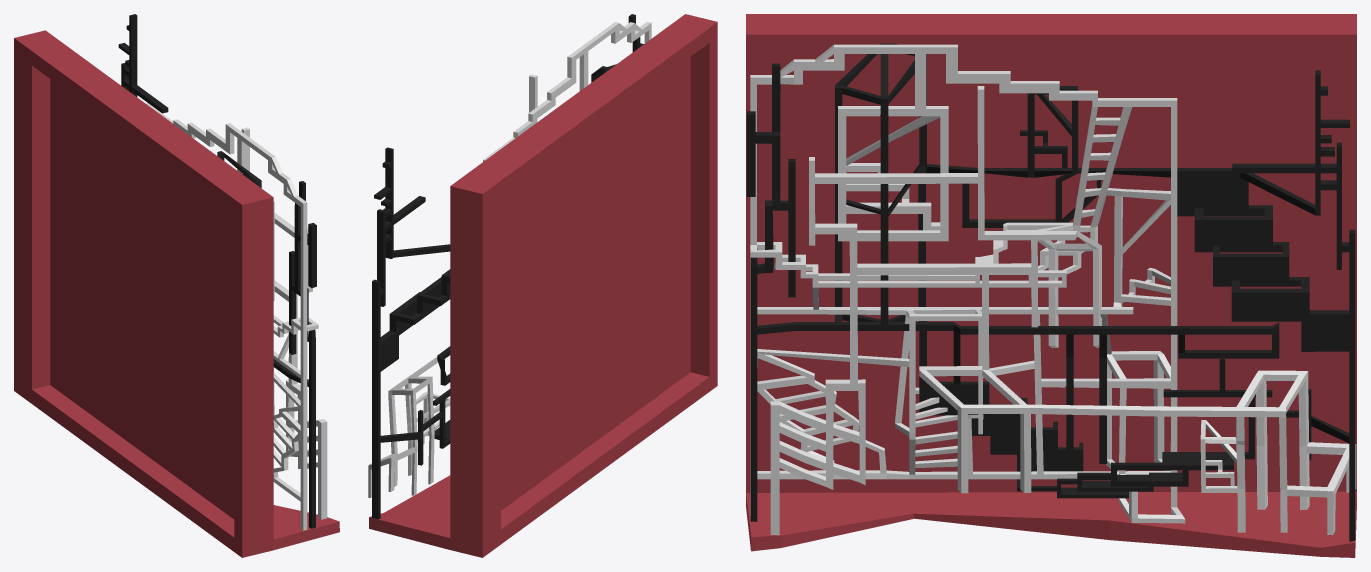
File: Stairs.glb
The picture shows the model from 3 angles, left to right: view 1: azimuth 30°, elevation 25°; view 2: azimuth 150°, elevation 25°; view 3: azimuth 270°, elevation 25°; orthographic projection. The views are drawn at different scales.
Visible parts, largest first — view 1: Canvas.001, Cube.004, Cube.006; view 2: Canvas.001, Cube.006, Cube.004; view 3: Canvas.001, Cube.004, Cube.006.
Boxes of the visible parts, x1,y1,x2,y2 form: Canvas.001: (14, 30, 339, 557); Cube.004: (146, 103, 327, 530); Cube.006: (118, 14, 316, 528); Canvas.001: (369, 14, 717, 557); Cube.006: (372, 14, 643, 519); Cube.004: (368, 21, 651, 497); Canvas.001: (746, 14, 1356, 557); Cube.004: (750, 44, 1356, 535); Cube.006: (746, 43, 1355, 541).
Bounding box in the file's own units: 3.03 × 8.7 × 9.97.
